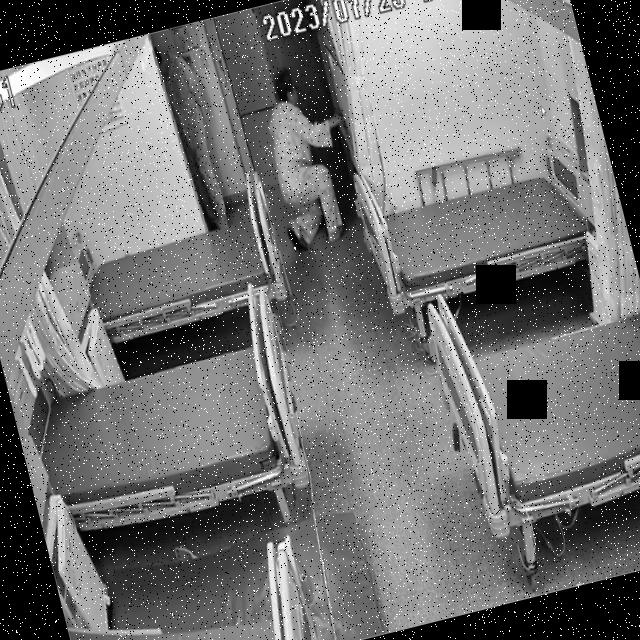bed: (418, 246, 640, 537), (23, 328, 315, 540), (354, 144, 610, 316), (80, 202, 288, 344)
danger: (252, 65, 371, 254)
patient: (248, 58, 372, 254), (152, 24, 234, 231)
stand: (150, 24, 234, 230)
